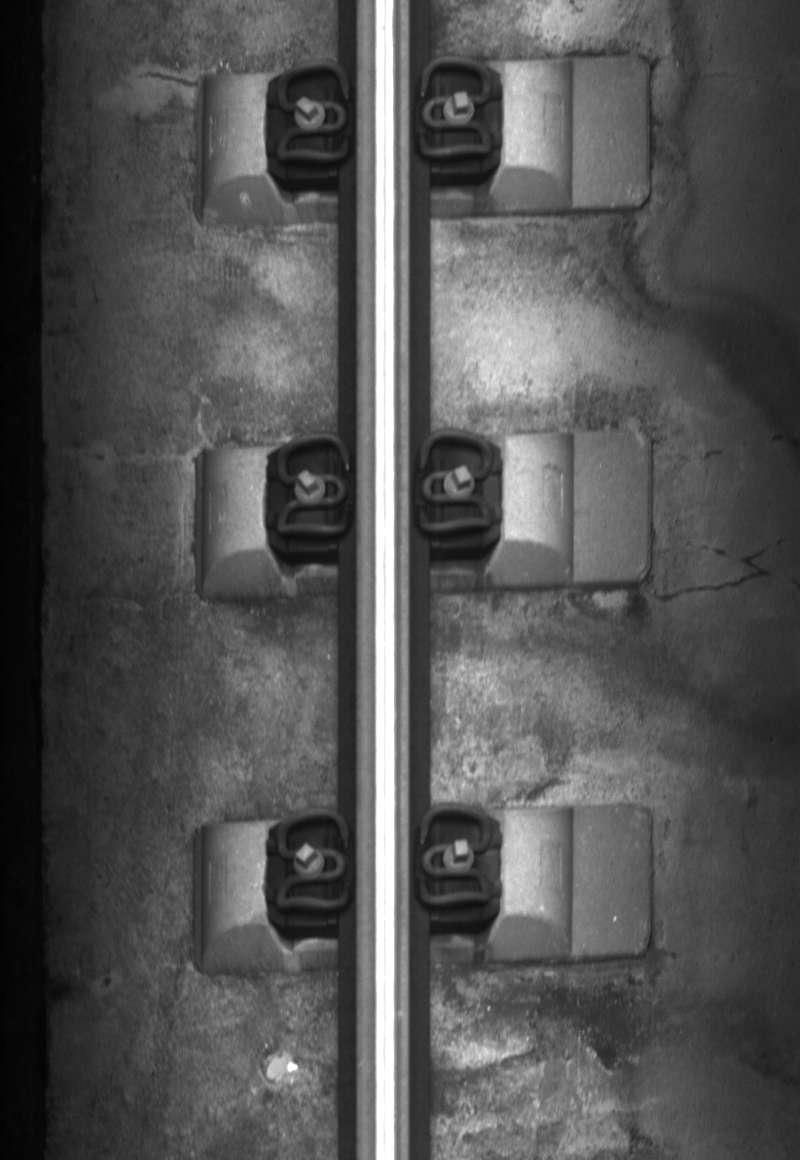l_faster: (271, 806, 355, 923), (269, 430, 355, 544), (269, 59, 355, 170)
r_faster: (413, 801, 496, 911), (415, 54, 496, 164), (414, 429, 495, 538)
